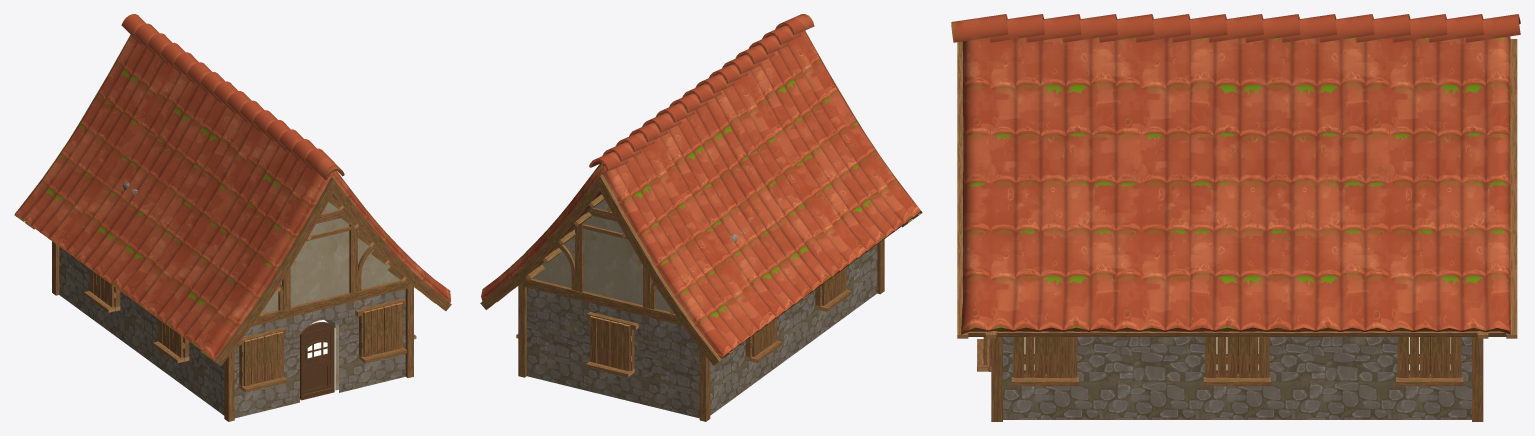
Rendered from kit-barracks.glb.
The picture shows the model from 3 angles, left to right: view 1: azimuth 30°, elevation 25°; view 2: azimuth 150°, elevation 25°; view 3: azimuth 270°, elevation 25°; orthographic projection. The views are drawn at different scales.
Visible parts, largest first — view 1: house; view 2: house; view 3: house.
Boxes of the visible parts, box(x1,y1,x2,y2) form: house: box(14, 14, 451, 421); house: box(480, 14, 922, 421); house: box(951, 14, 1520, 421).
Bounding box in the file's own units: 8.25 × 7.89 × 11.85.
6 materials, 5 textured.
